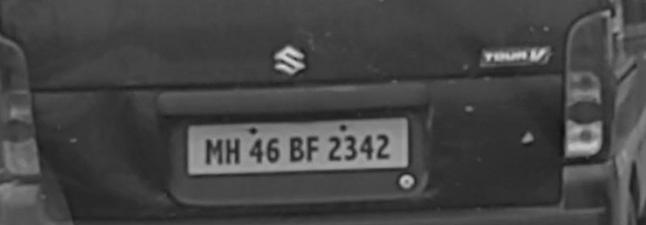number_plate: (192, 123, 408, 165)
